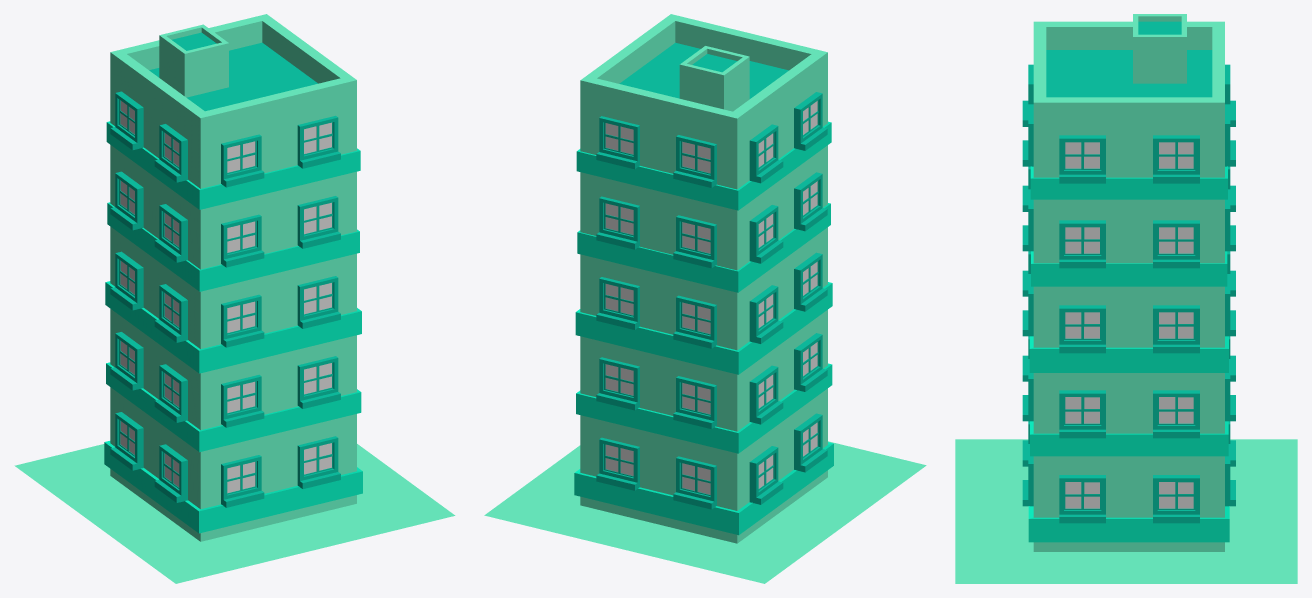
The model's file is building_1_green.fbx.
3 renders of one model, left to right at view 1: azimuth 30°, elevation 25°; view 2: azimuth 150°, elevation 25°; view 3: azimuth 270°, elevation 25°, orthographic. The views are drawn at different scales.
Parts seen in each view (by area): view 1: Cube.009, Plane, Cube.011, Cube.010; view 2: Cube.009, Plane, Cube.011, Cube.010; view 3: Cube.009, Plane, Cube.010, Cube.011.
Boxes of the visible parts, bbox=[...] form: Cube.009: bbox=[104, 14, 362, 541]; Plane: bbox=[14, 444, 455, 583]; Cube.011: bbox=[221, 115, 340, 507]; Cube.010: bbox=[110, 91, 187, 502]; Cube.009: bbox=[574, 14, 833, 543]; Plane: bbox=[484, 441, 926, 583]; Cube.011: bbox=[596, 116, 716, 509]; Cube.010: bbox=[749, 92, 827, 504]; Cube.009: bbox=[1028, 14, 1229, 551]; Plane: bbox=[955, 439, 1297, 583]; Cube.010: bbox=[1059, 135, 1199, 523]; Cube.011: bbox=[1022, 64, 1235, 506].
Bounding box in the file's own units: 1000 × 1527 × 1000.
